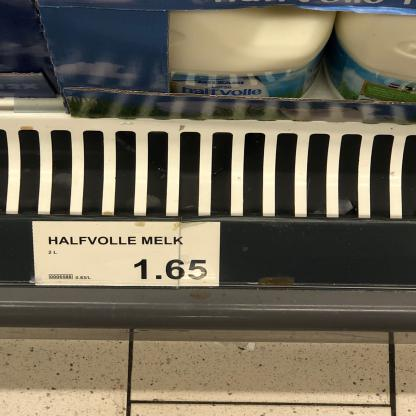prtg: (33, 222, 221, 287)
